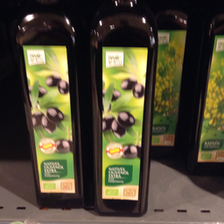oil: (86, 1, 160, 216), (14, 1, 88, 207)
